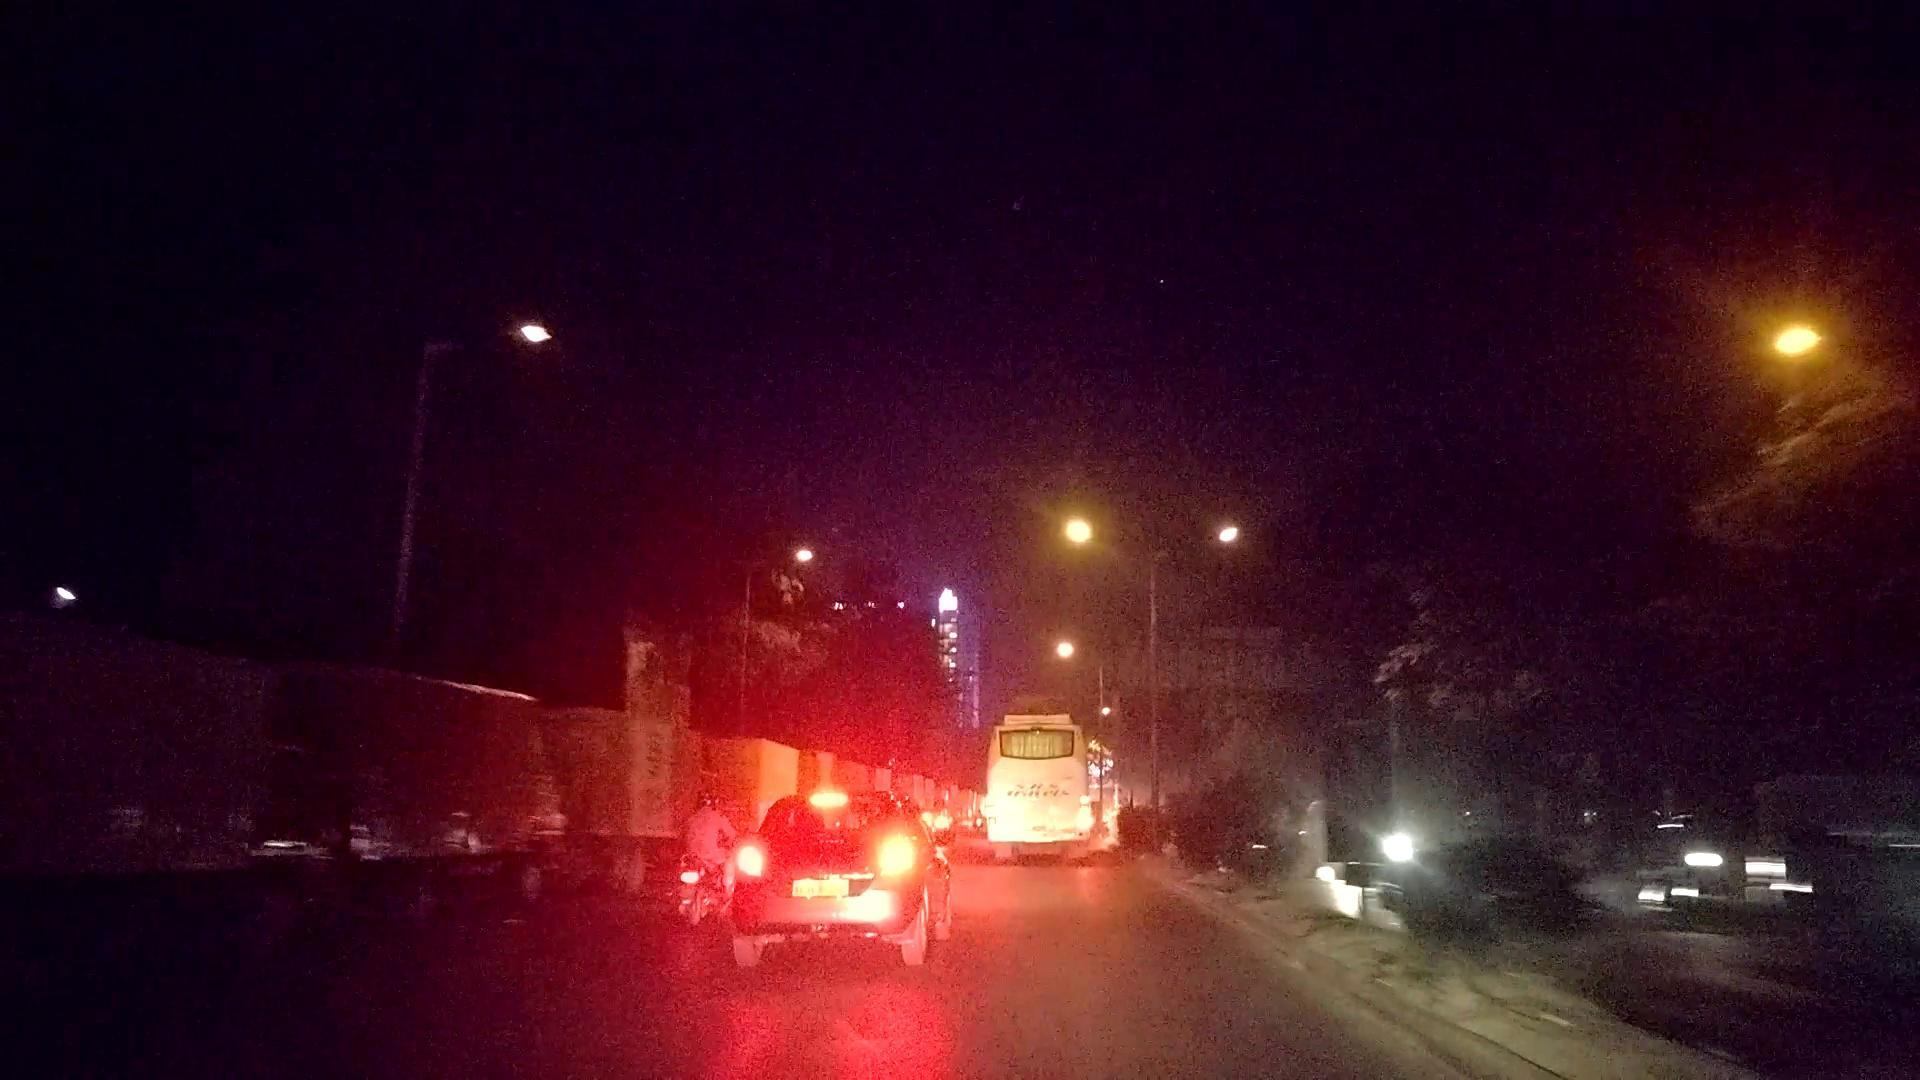on: (1480, 202, 1920, 467)
